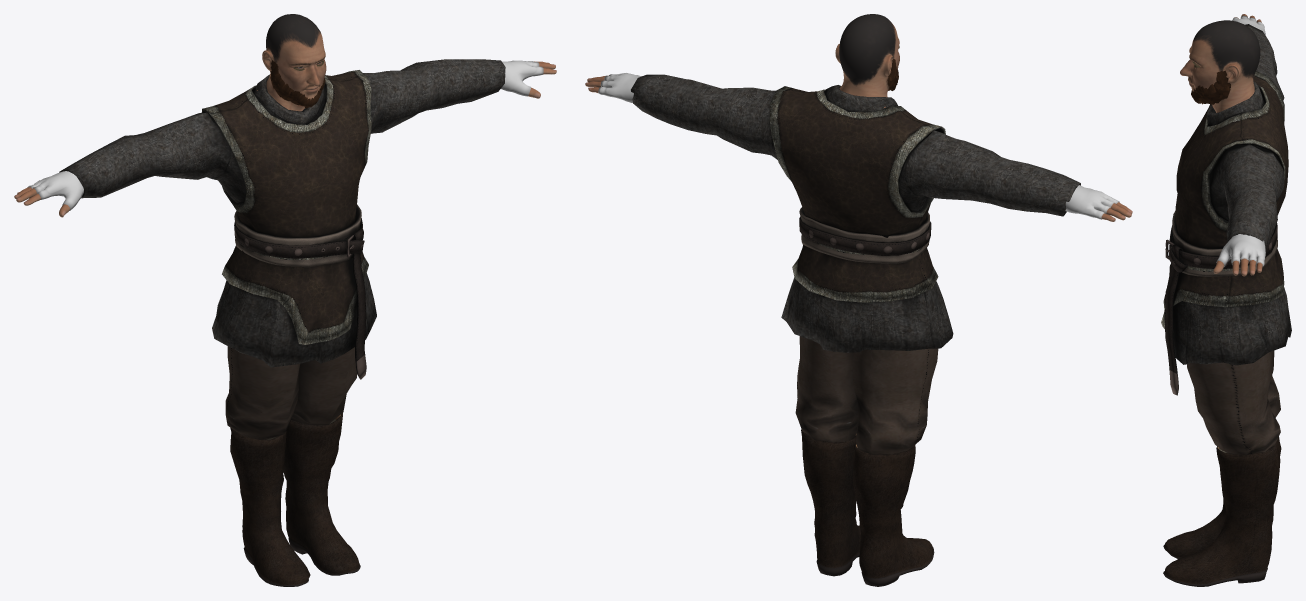
The model's file is kuznec.obj.
3 views of the same model, side by side, from view 1: azimuth 30°, elevation 25°; view 2: azimuth 150°, elevation 25°; view 3: azimuth 270°, elevation 25° (orthographic).
Visible parts, largest first — view 1: Tops, Shoes, Bottoms, Body, Gloves, Beards; view 2: Tops, Shoes, Bottoms, Body, Gloves; view 3: Tops, Shoes, Bottoms, Body, Gloves, Beards.
Part boxes in pixels (x1,y1,x2,y2): Tops: [59, 59, 505, 379]; Shoes: [230, 413, 360, 586]; Bottoms: [225, 346, 356, 439]; Body: [14, 14, 556, 217]; Gloves: [27, 60, 543, 210]; Beards: [270, 60, 325, 108]; Tops: [631, 74, 1080, 352]; Shoes: [801, 429, 934, 586]; Bottoms: [795, 336, 938, 454]; Body: [585, 14, 1132, 221]; Gloves: [598, 73, 1119, 219]; Tops: [1161, 24, 1291, 395]; Shoes: [1163, 437, 1281, 586]; Bottoms: [1187, 350, 1280, 454]; Body: [1180, 14, 1262, 276]; Gloves: [1216, 15, 1265, 266]; Beards: [1191, 70, 1230, 104].
Bounding box in the file's own units: 189 × 182 × 39.82.
